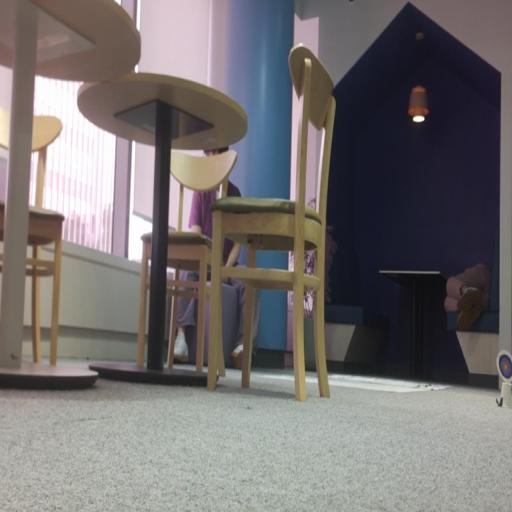target: (496, 350, 512, 382)
